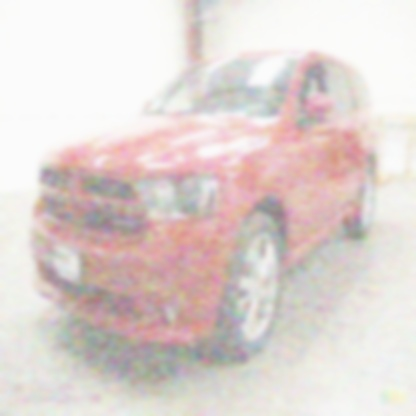Vehicle: (30, 52, 383, 362)
